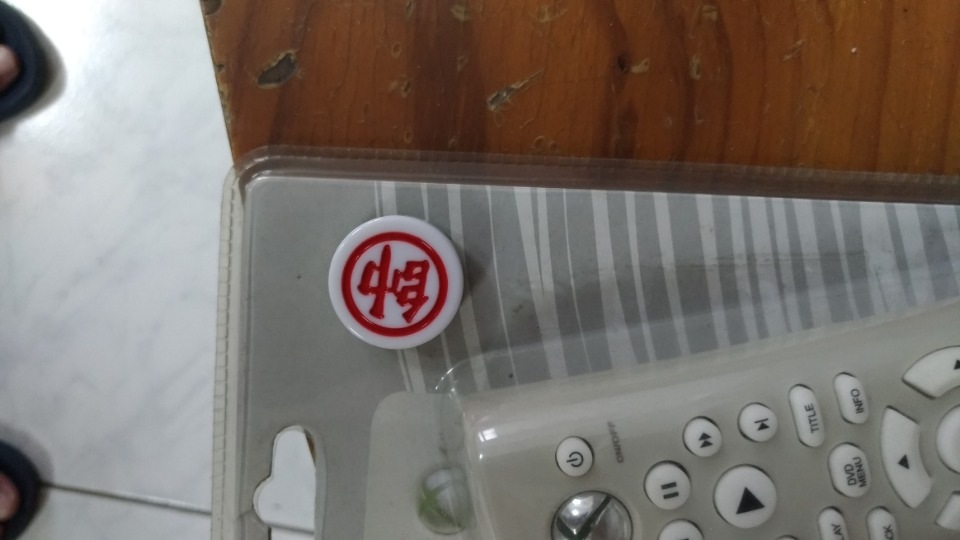r-king: (312, 213, 477, 353)
